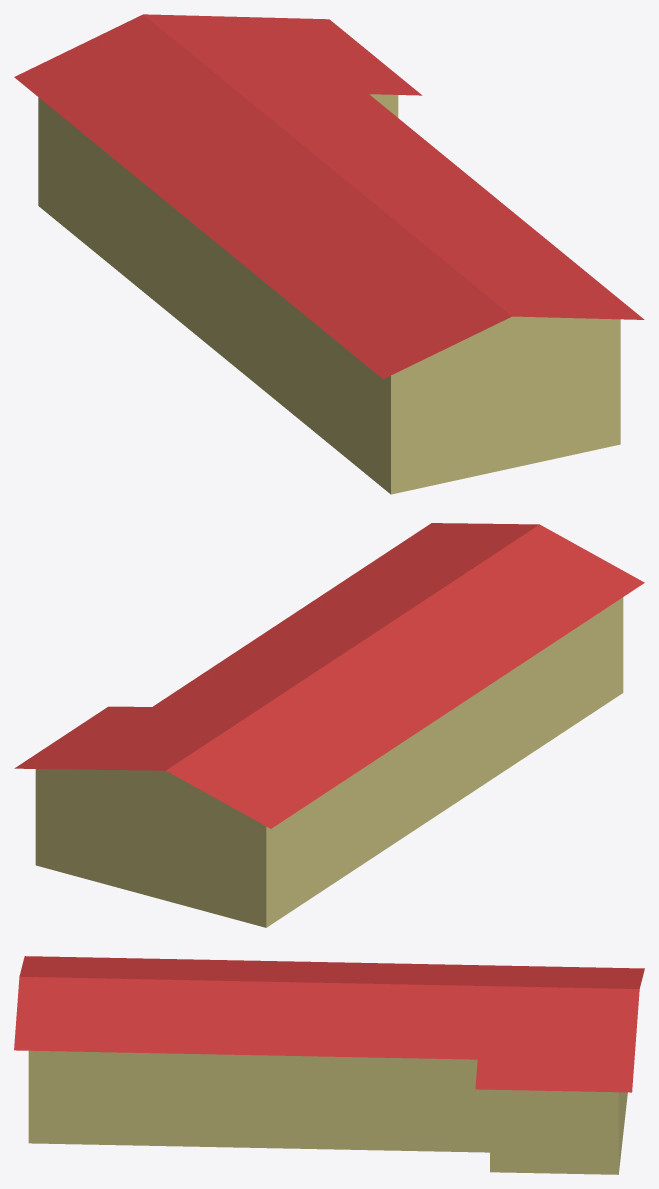
3 views of the same model, one above another, from view 1: azimuth 30°, elevation 25°; view 2: azimuth 150°, elevation 25°; view 3: azimuth 270°, elevation 25° (orthographic). The views are drawn at different scales.
Bounding box in the file's own units: 21.59 × 45 × 9.73.
